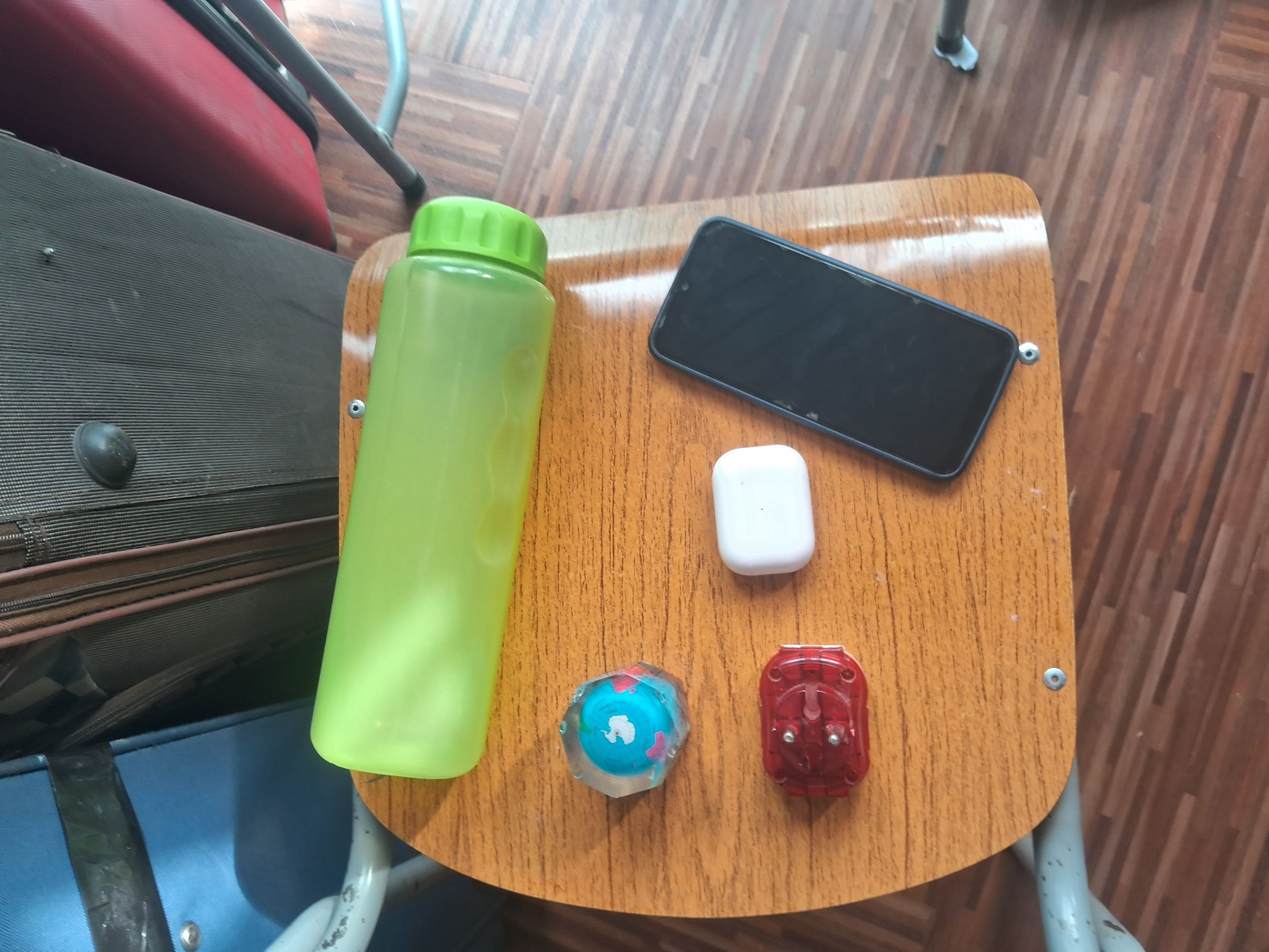Air_pod: (707, 439, 819, 581)
Multi_adapter: (757, 641, 875, 804)
Smart_phone: (644, 209, 1020, 487)
Water_bottle: (302, 187, 558, 784)
world_globe: (559, 657, 696, 803)
